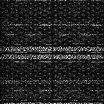lte: (1, 45, 104, 51), (1, 54, 104, 60), (1, 101, 103, 104)
